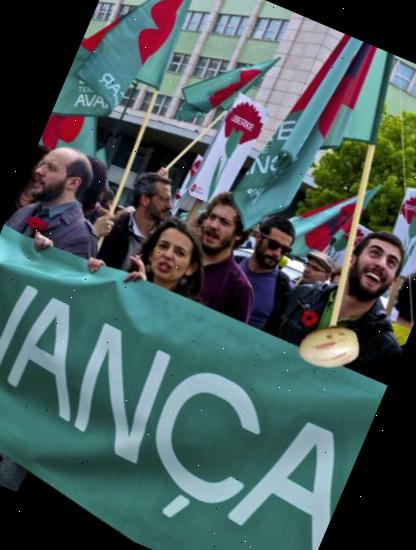Pepino: (288, 306, 369, 387)
